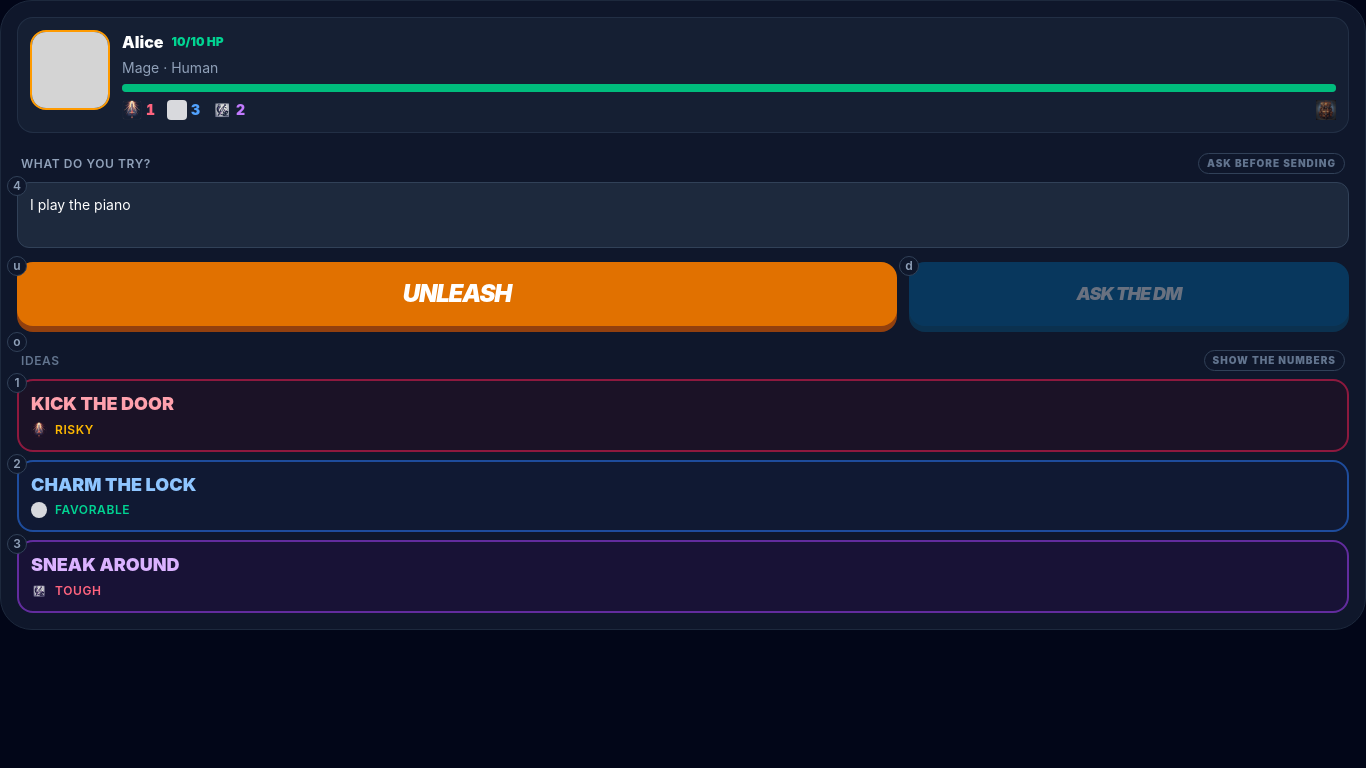
it: ActionDock clarification › puts the draft back on Start over
Click the button "UNLEASH" at (457, 294), box top-left (17, 262), bottom-right (897, 326)
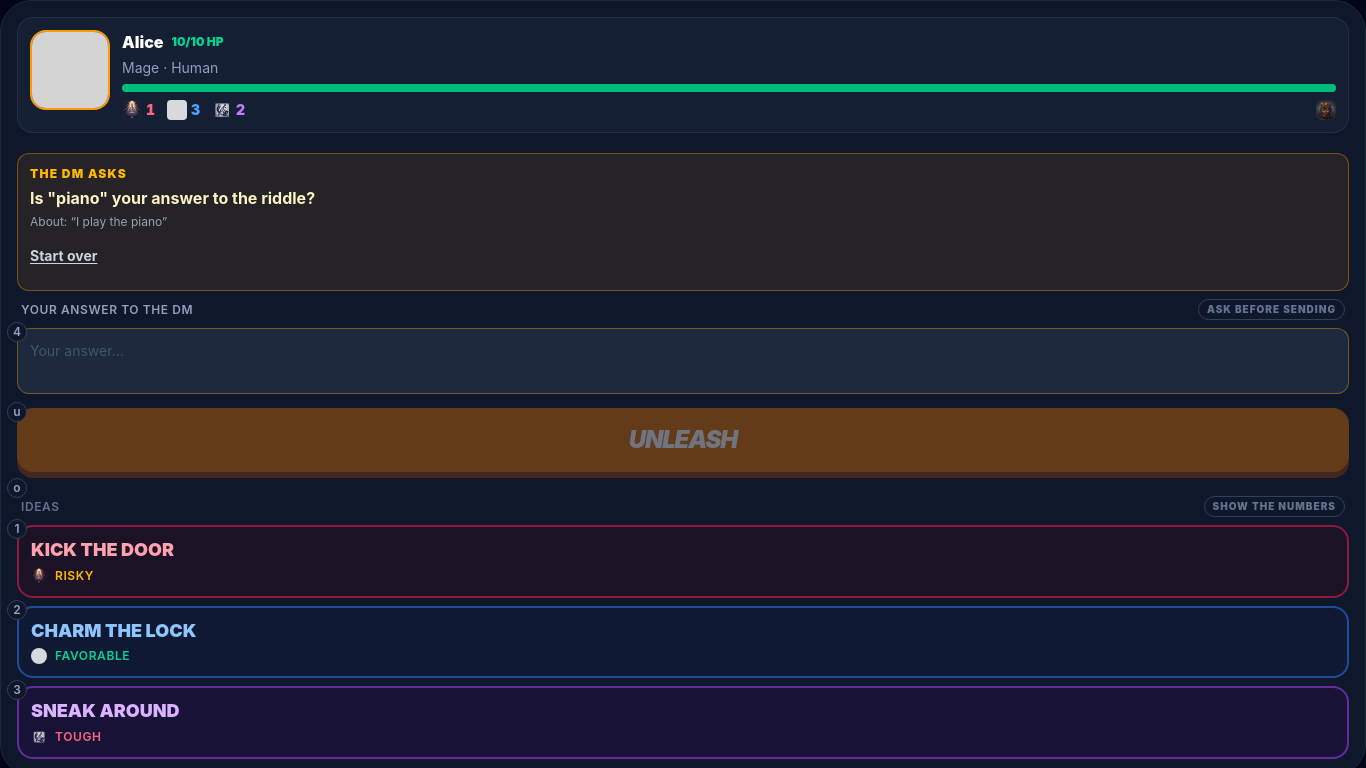
Click the button "Start over" at (64, 256), box top-left (22, 234), bottom-right (105, 278)
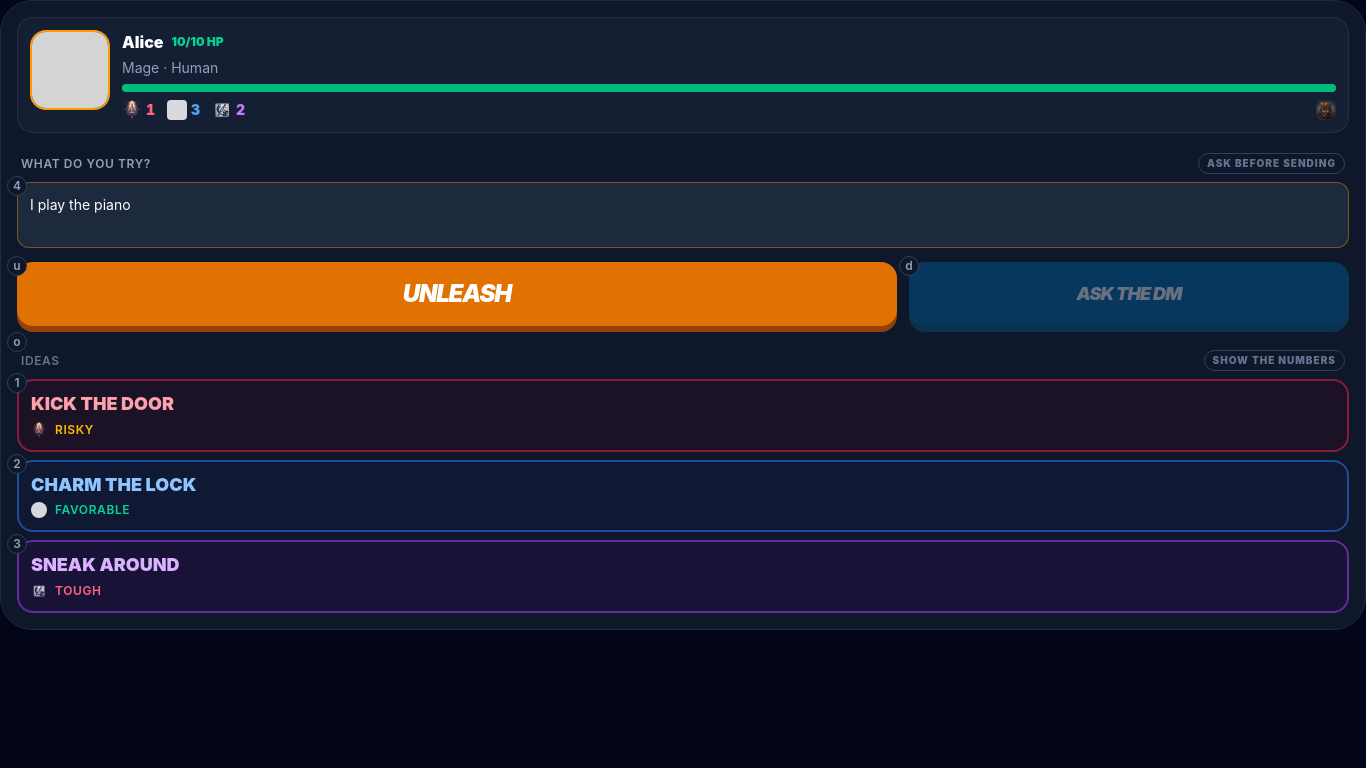
Expected: the text "Is \"piano\" your answer to the riddle?" is gone
Expected: the text box labelled "What do you try?" holds "I play the piano", top-left (17, 182), bottom-right (1349, 248)
